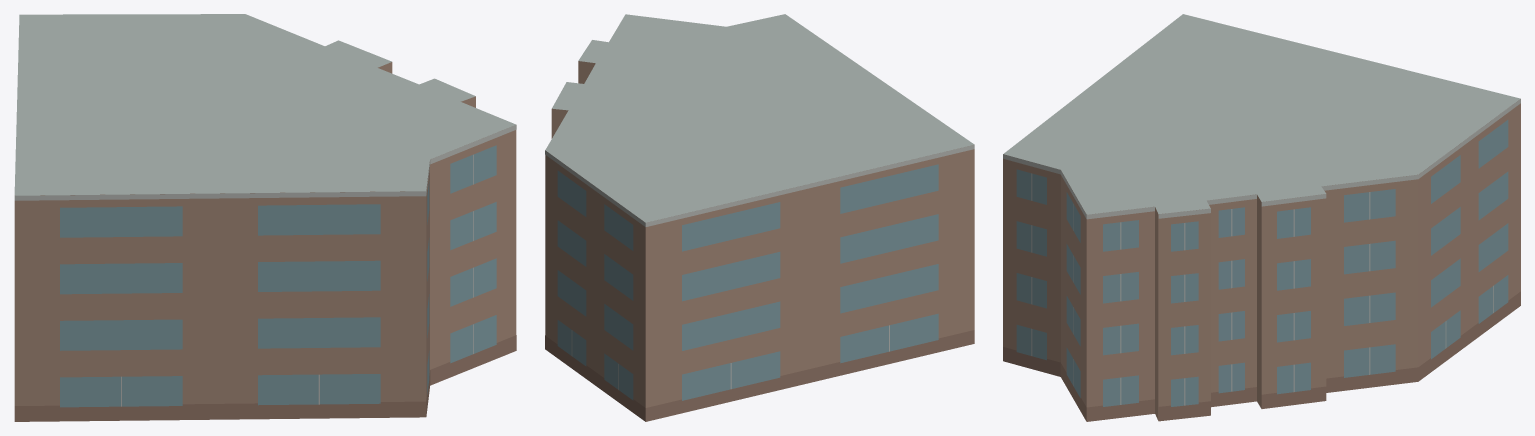
The model's file is survey-upis-32525094.glb.
3 renders of one model, left to right at view 1: azimuth 30°, elevation 25°; view 2: azimuth 150°, elevation 25°; view 3: azimuth 270°, elevation 25°, orthographic. The views are drawn at different scales.
Visible parts, largest first — view 1: survey-upis-32525094.tmp; view 2: survey-upis-32525094.tmp; view 3: survey-upis-32525094.tmp.
Part boxes in pixels (x1,y1,x2,y2): survey-upis-32525094.tmp: (14, 14, 516, 421); survey-upis-32525094.tmp: (545, 14, 974, 421); survey-upis-32525094.tmp: (1003, 14, 1520, 421).
Size of the model in its own units: 22.88 by 11 by 24.93.
